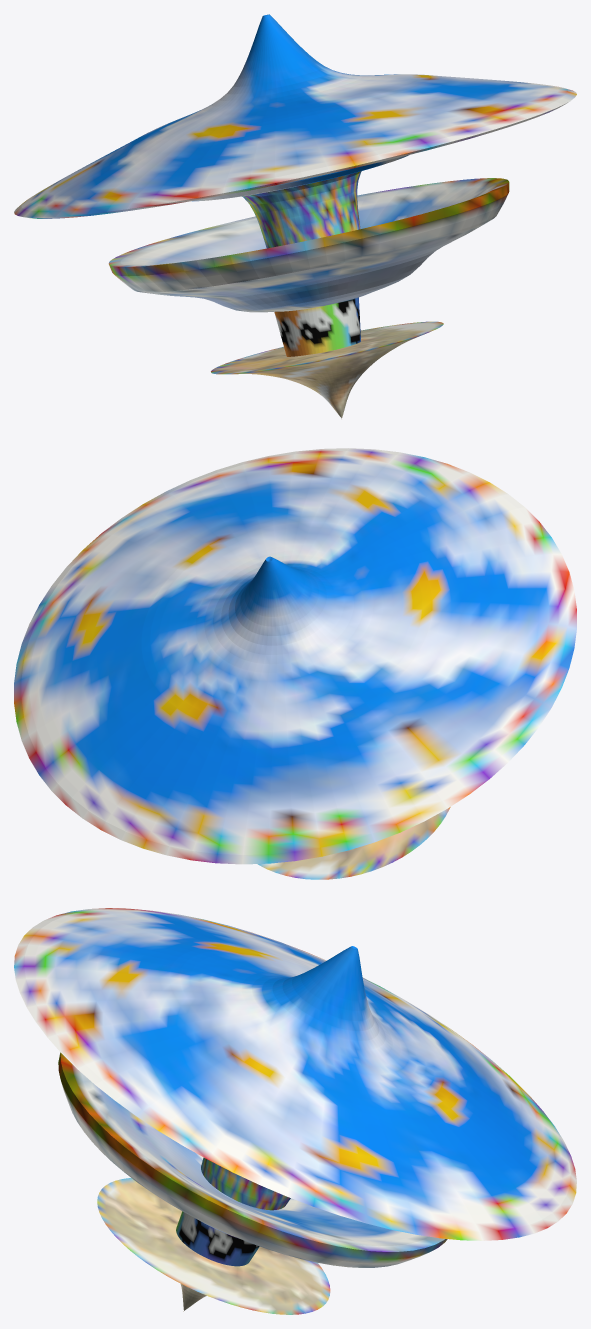
File: april28outdoorpagoda13.glb
3 views of the same model, one above another, from view 1: azimuth 30°, elevation 25°; view 2: azimuth 150°, elevation 25°; view 3: azimuth 270°, elevation 25° (orthographic). The views are drawn at different scales.
Visible parts, largest first — view 1: Lathe 4, Lathe 3, Lathe, Lathe.001; view 2: Lathe 4, Lathe; view 3: Lathe 4, Lathe 3, Lathe, Lathe.001.
Boxes of the visible parts, bbox=[...] form: Lathe 4: bbox=[14, 14, 576, 248]; Lathe 3: bbox=[108, 178, 509, 312]; Lathe: bbox=[211, 321, 443, 418]; Lathe.001: bbox=[274, 297, 360, 356]; Lathe 4: bbox=[14, 448, 576, 864]; Lathe: bbox=[257, 807, 450, 879]; Lathe 4: bbox=[14, 908, 576, 1240]; Lathe 3: bbox=[58, 1052, 447, 1267]; Lathe: bbox=[97, 1178, 330, 1314]; Lathe.001: bbox=[176, 1211, 259, 1266].
Size of the model in its own units: 3.74 by 2.48 by 3.44.
